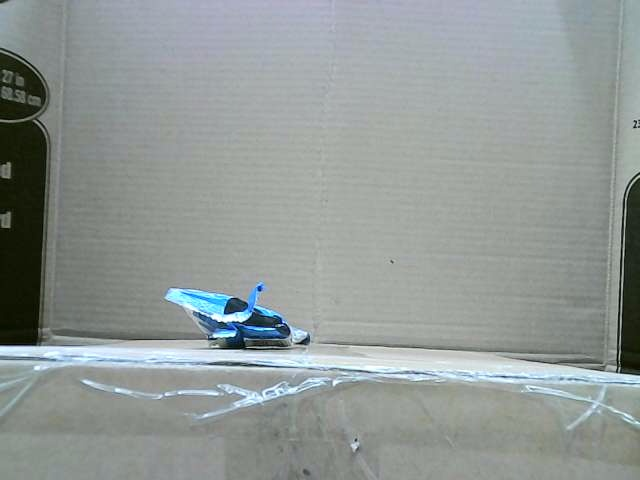CandyWrapper: (164, 283, 312, 348)
